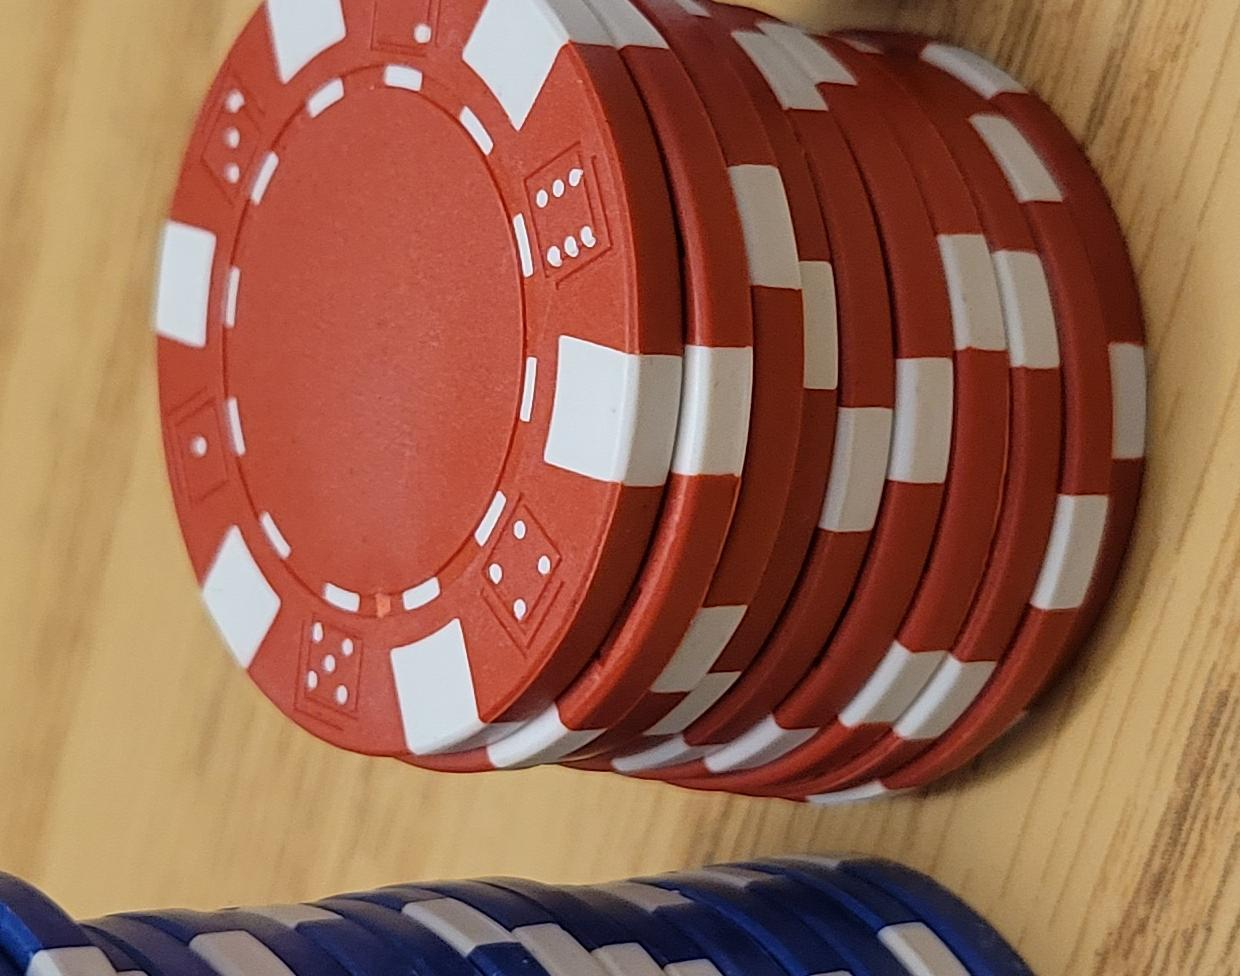Chip: (1, 363, 564, 976)
